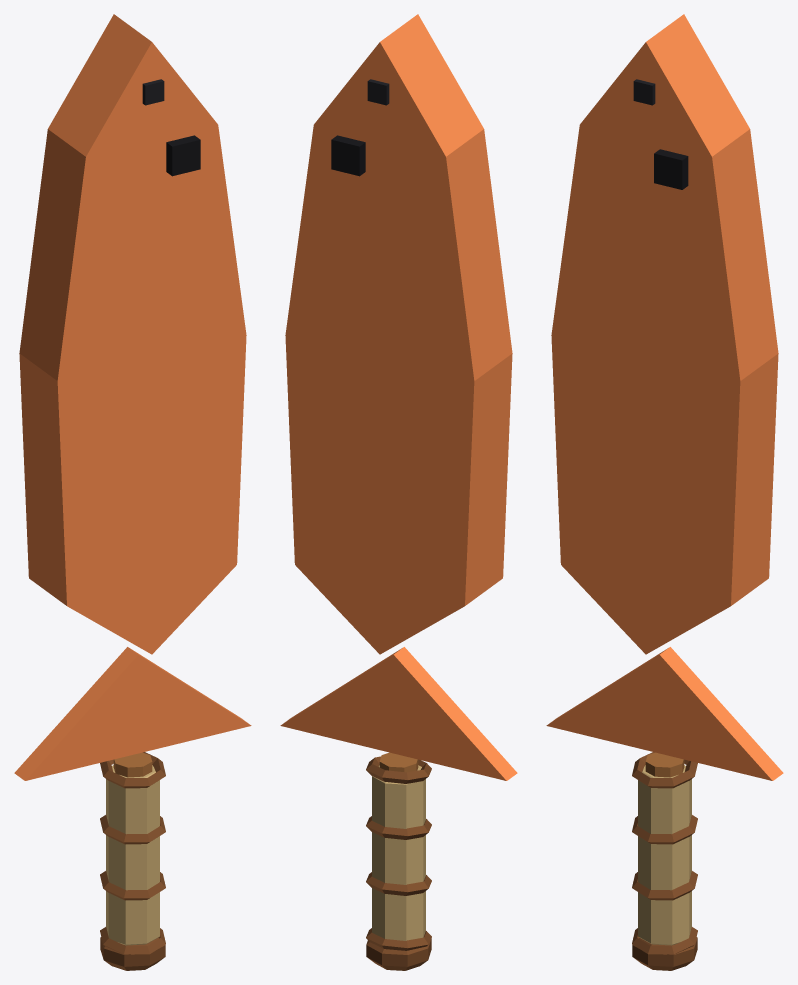
Rendered from FishSword.fbx.
3 views of the same model, side by side, from view 1: azimuth 30°, elevation 25°; view 2: azimuth 150°, elevation 25°; view 3: azimuth 330°, elevation 25° (orthographic).
Parts seen in each view (by area): view 1: FishSword; view 2: FishSword; view 3: FishSword.
Boxes of the visible parts, bbox=[...] form: FishSword: bbox=[14, 14, 251, 970]; FishSword: bbox=[280, 14, 517, 970]; FishSword: bbox=[546, 14, 783, 970].
Size of the model in its own units: 1.2 by 4.72 by 0.46.
1 material, 1 textured.
